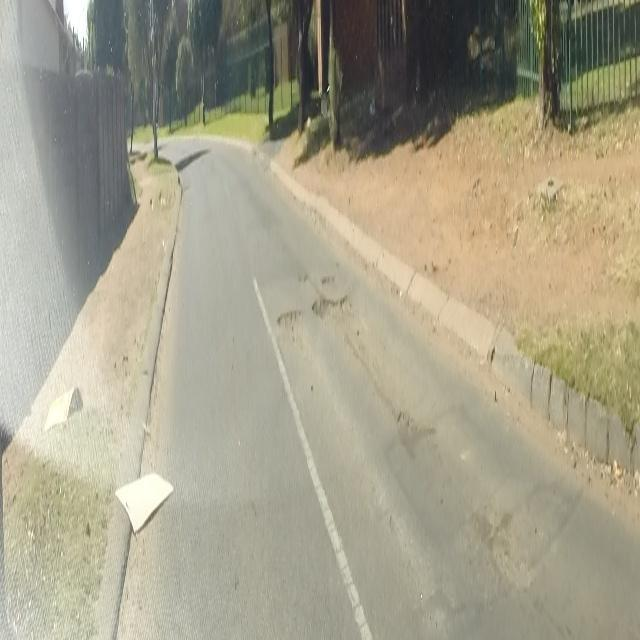pothole: (310, 273, 350, 324), (396, 390, 411, 436), (275, 306, 299, 330)
